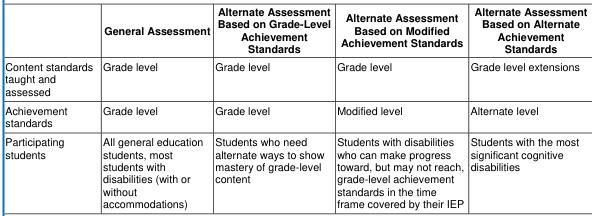table: (4, 3, 586, 210)
table column: (333, 3, 466, 210), (211, 3, 333, 210), (466, 3, 586, 210), (97, 3, 211, 210), (4, 3, 97, 210)
table column header: (4, 3, 586, 56)
table row: (4, 131, 586, 210), (4, 3, 586, 56), (4, 56, 586, 100), (4, 100, 586, 131)
